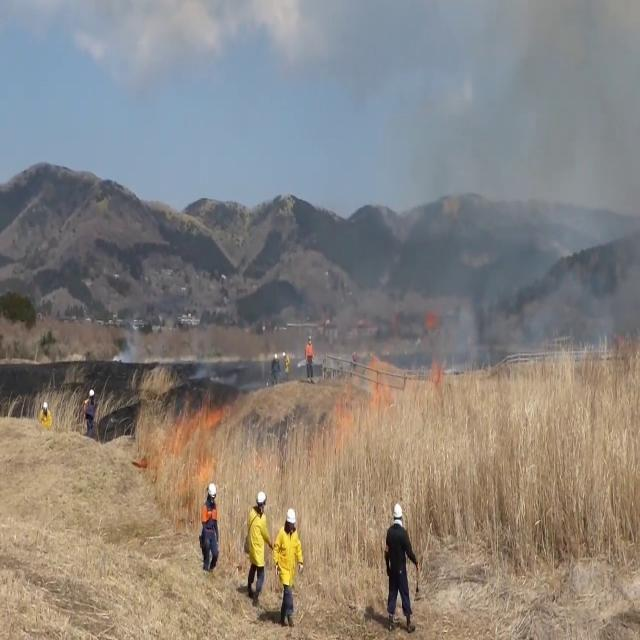Fire: (186, 390, 236, 478)
Smoke: (421, 5, 640, 385)
